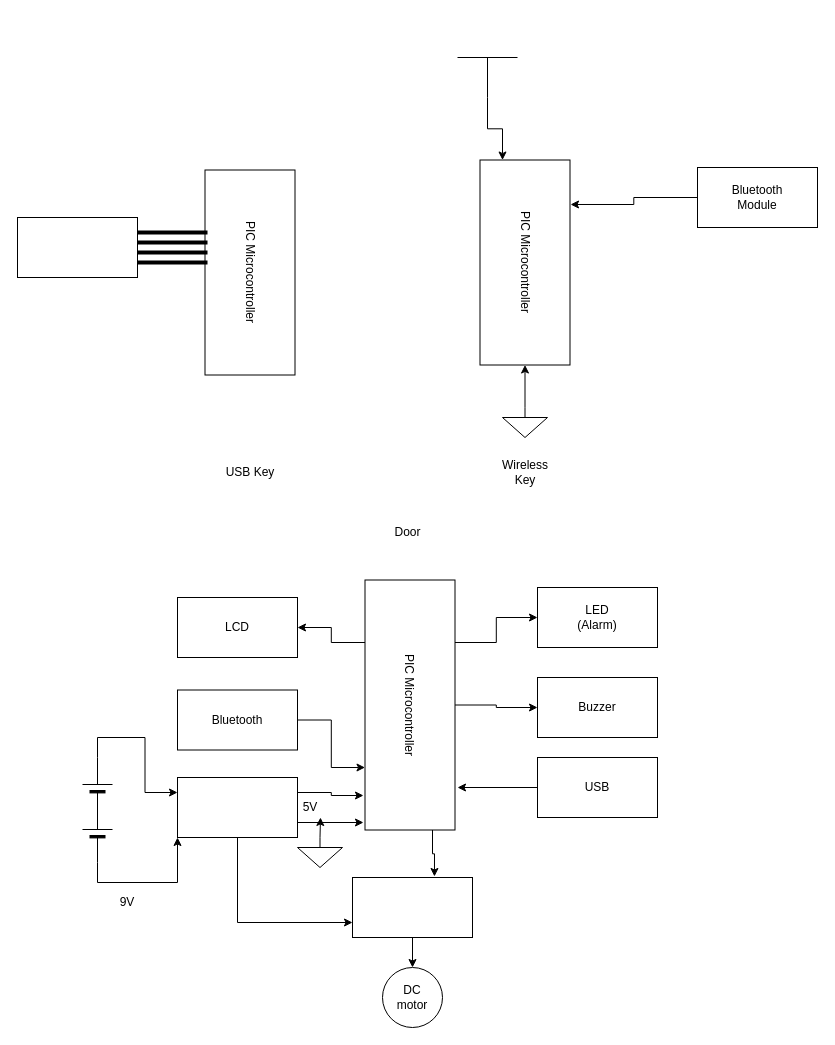
The diagram is 835 pixels wide and 1045 high, and some of its shapes have lost their labels. The box of each missing label's shape, as (x1, y1, x2, y2) in pixels:
Motor Driver interface: (352, 876, 472, 938)
Power Regulation and management: (176, 776, 298, 838)
USB port: (16, 216, 138, 278)
V ss: (456, 56, 518, 98)
